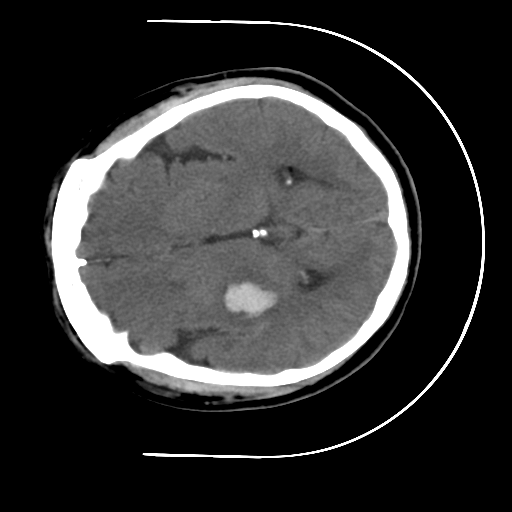a: (203, 258, 297, 339)
